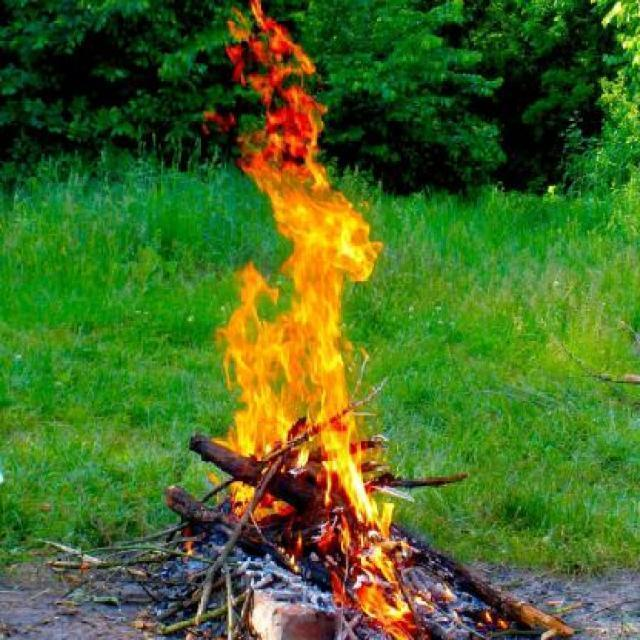Fire: (208, 0, 380, 442), (324, 448, 411, 638)
